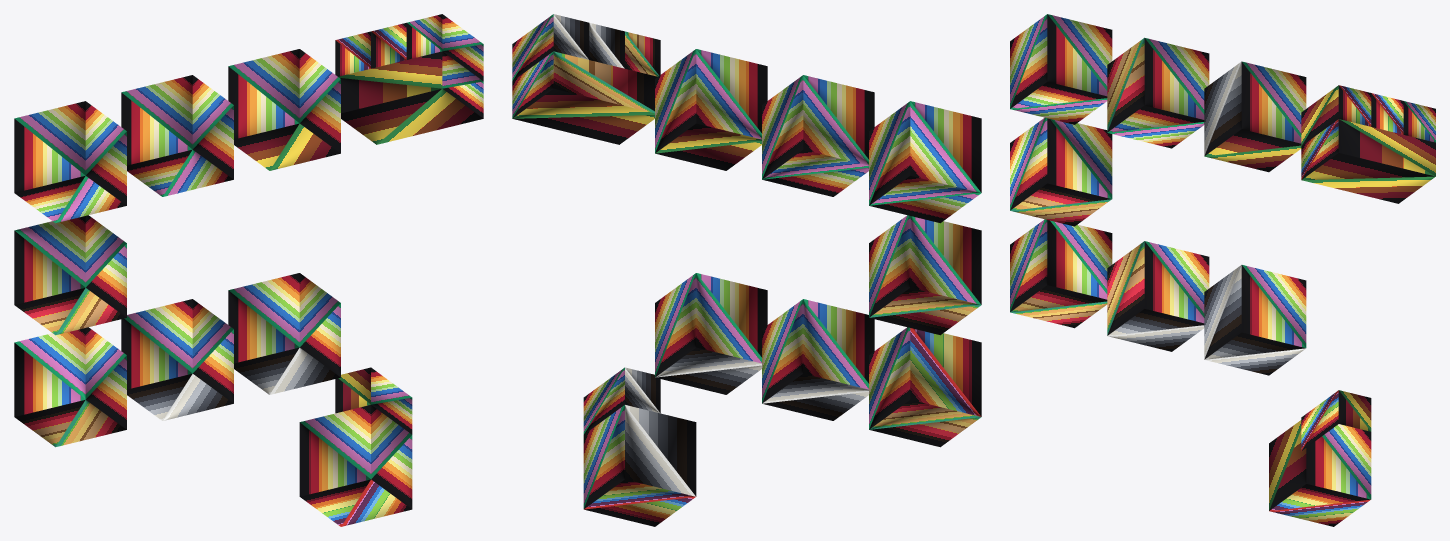
File: snake.glb
3 renders of one model, left to right at view 1: azimuth 30°, elevation 25°; view 2: azimuth 150°, elevation 25°; view 3: azimuth 330°, elevation 25°, orthographic. The views are drawn at different scales.
Parts seen in each view (by area): view 1: snake; view 2: snake; view 3: snake.
Boxes of the visible parts, x1,y1,x2,y2 form: snake: (14, 14, 483, 526); snake: (512, 14, 981, 526); snake: (1010, 14, 1435, 526).
Size of the model in its own units: 0.95 by 0.95 by 0.1583.
Materials: 1 (1 with a texture image).
